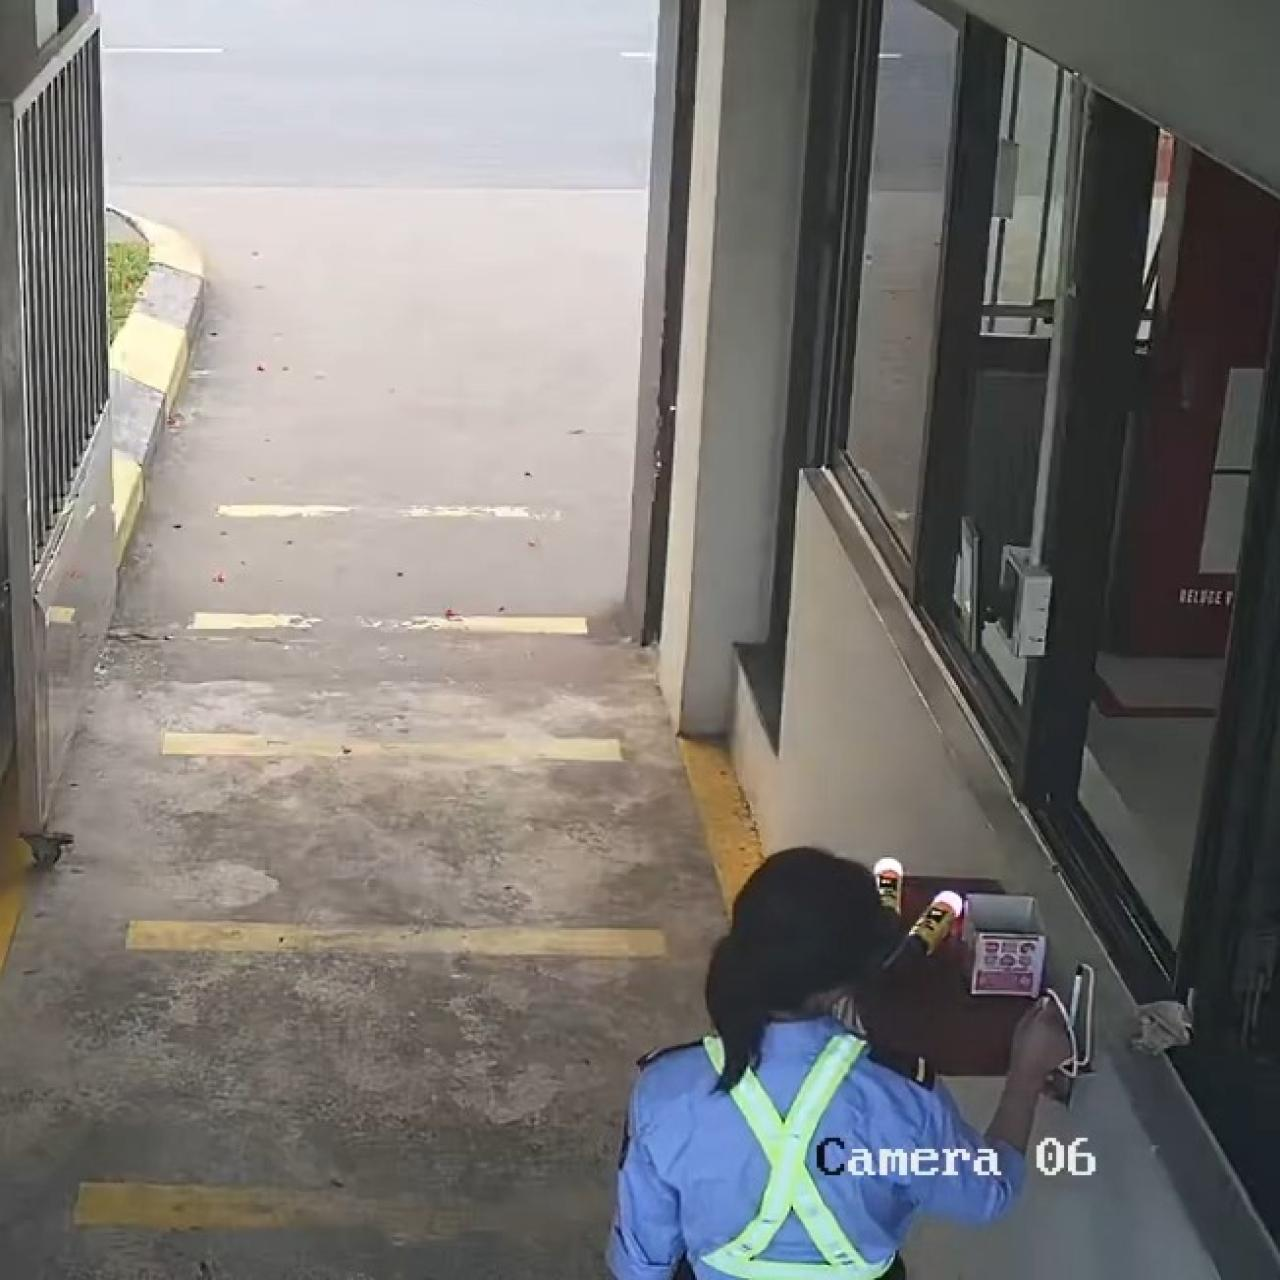breathalyzer: (881, 872, 975, 968)
guard: (600, 842, 1082, 1276)
